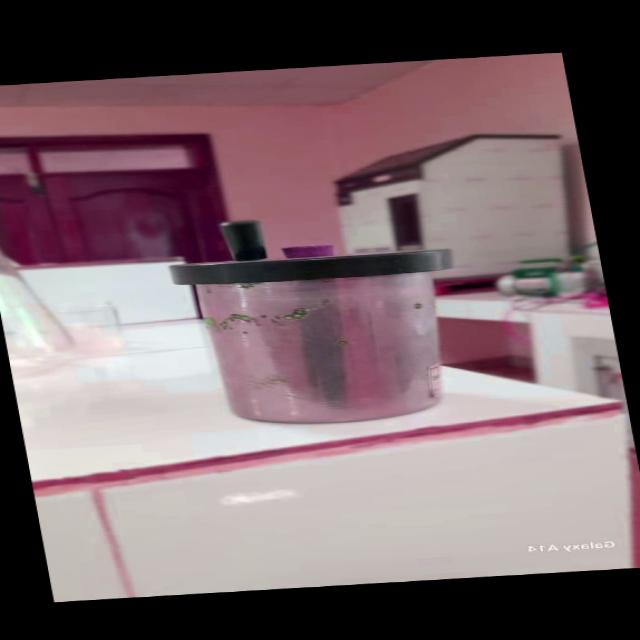Calorimeter: (166, 204, 480, 432)
